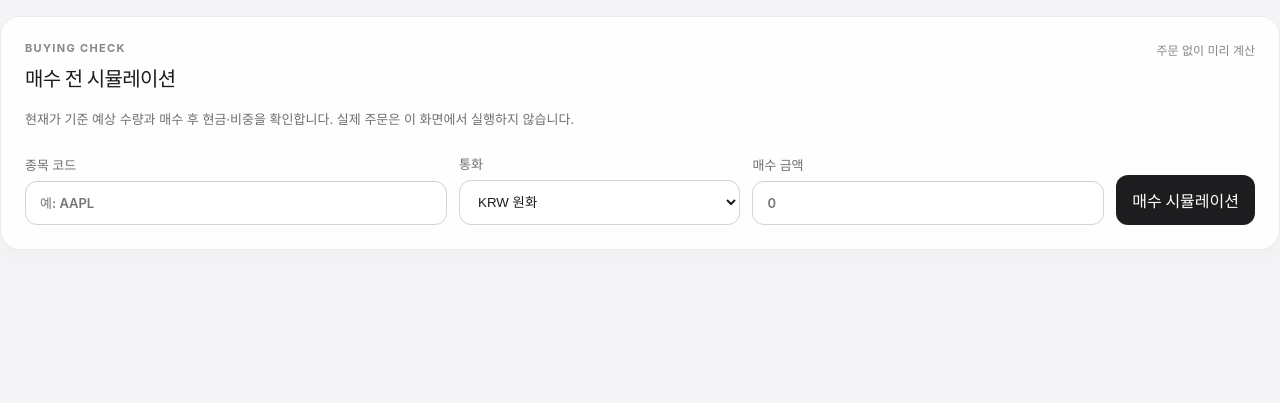
InvestmentSimulationPanel › submits a native-currency amount and shows a safe preview
The width and height of the screenshot is (1280, 403).
Type "AAPL" into the field labelled "종목 코드" at (236, 203), box 25,181 -> 447,225
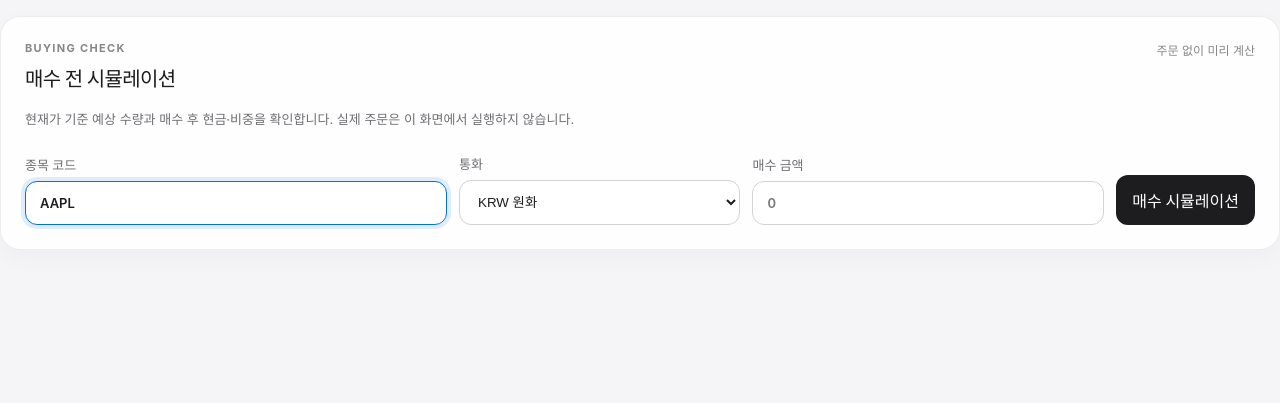
Select "USD 달러" in the dropdown labelled "통화" at (600, 203), box 459,180 -> 740,225
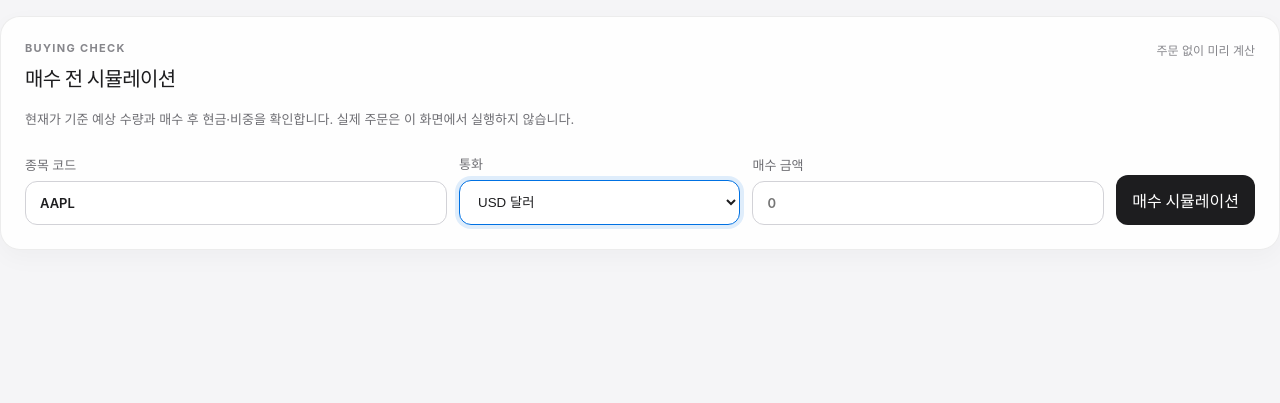
Type "500" into the number field labelled "매수 금액" at (928, 203), box 752,181 -> 1104,225
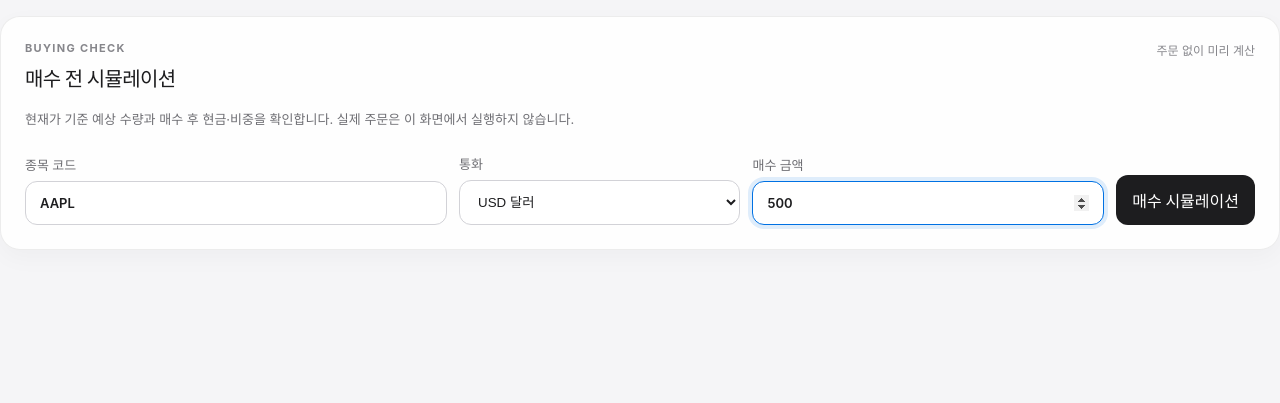
Click the button "매수 시뮬레이션" at (1186, 200), box 1116,175 -> 1255,225
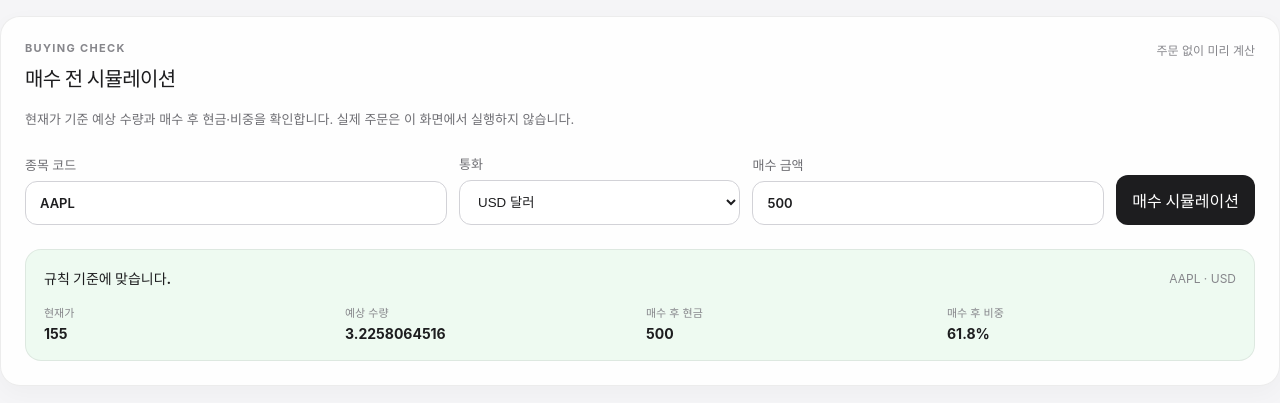
Check: the text "규칙 기준에 맞습니다." is shown, box 44,268 -> 171,288
